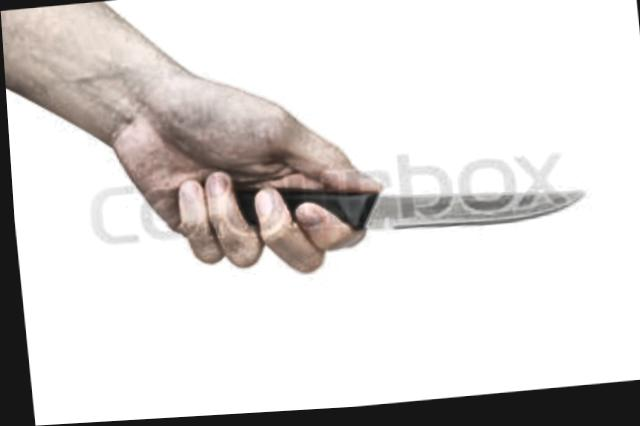knife: (241, 158, 598, 282)
